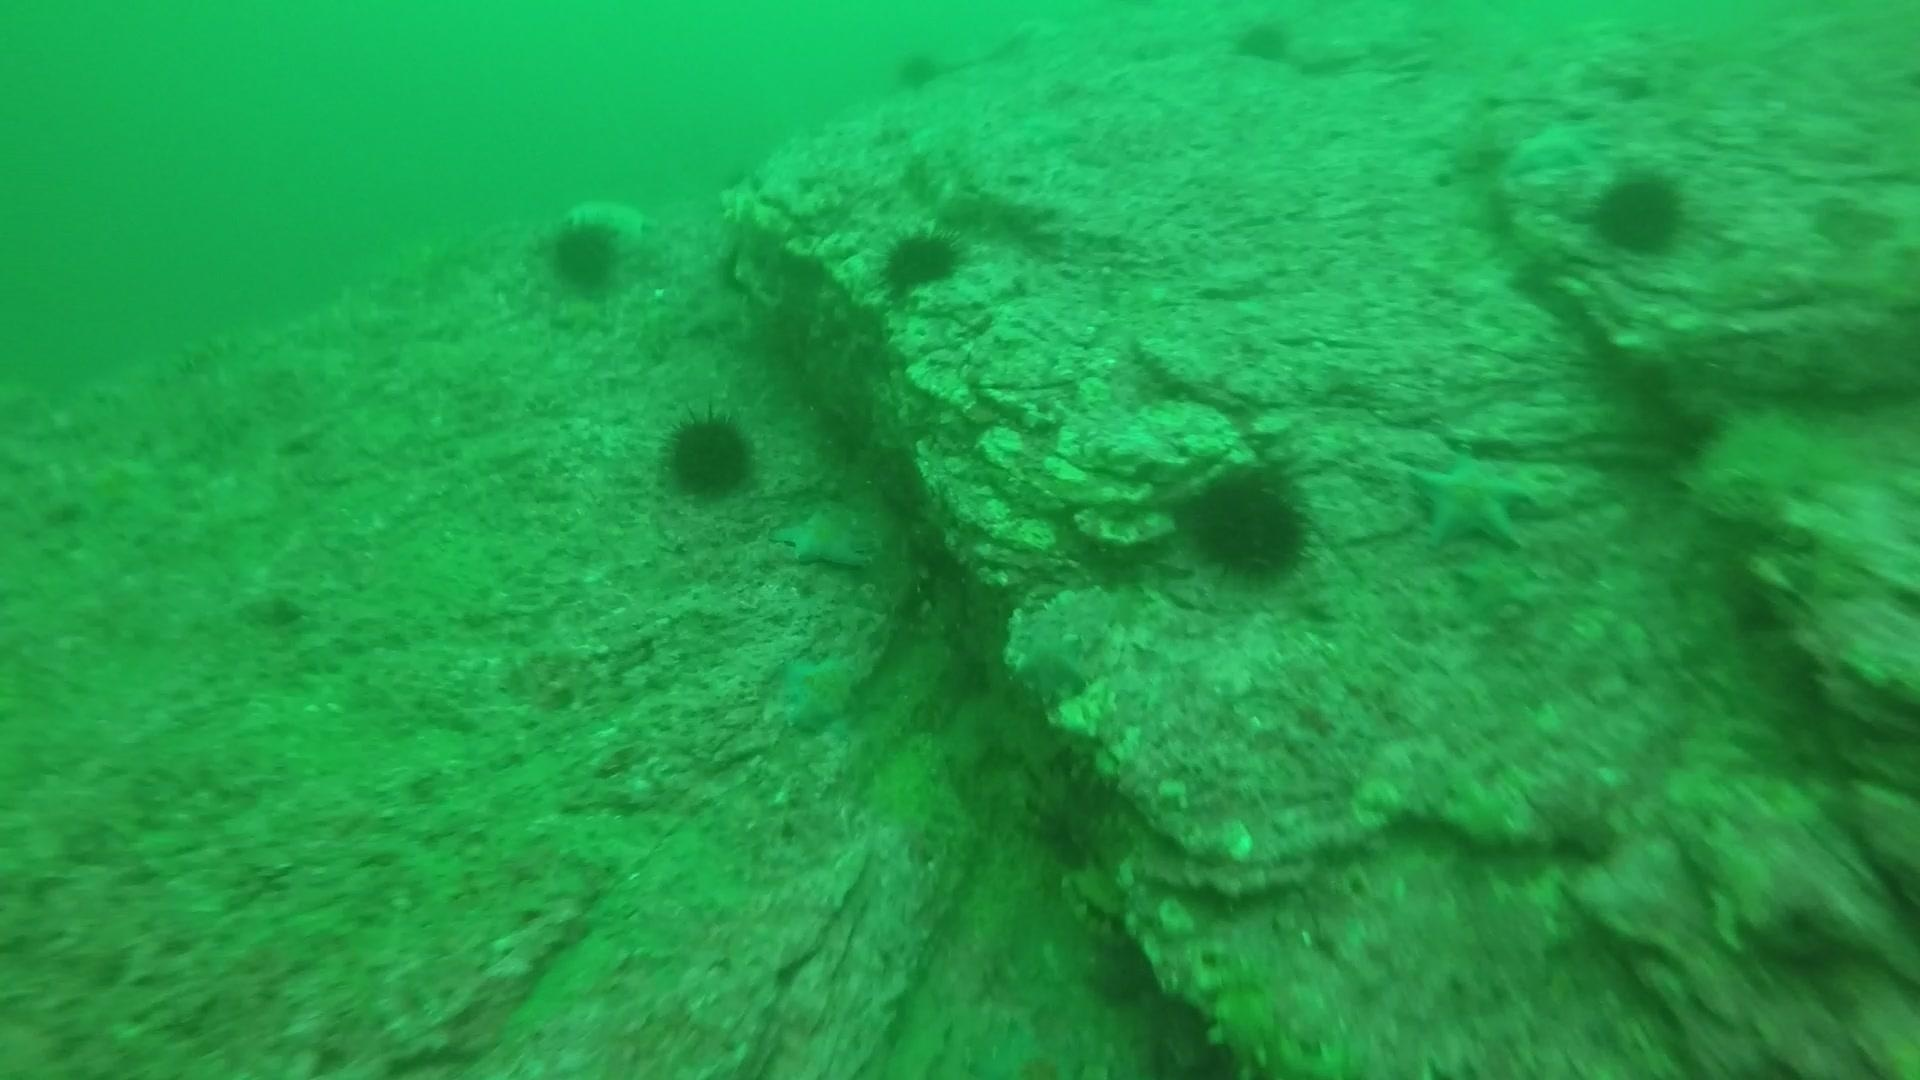echinus: (1178, 454, 1321, 588), (1584, 164, 1695, 262), (655, 404, 762, 505), (537, 208, 632, 302), (873, 222, 971, 301), (1226, 15, 1298, 70), (890, 45, 945, 96)
starfish: (1403, 444, 1551, 556), (855, 732, 964, 858), (761, 641, 869, 738), (767, 493, 884, 576), (49, 447, 164, 527), (1501, 113, 1615, 181)
